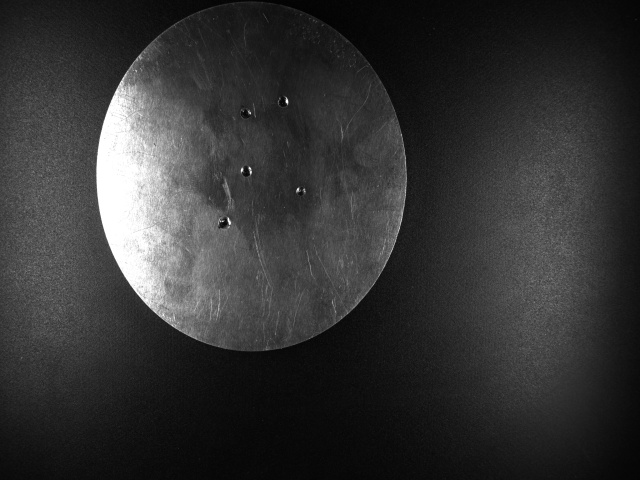zhen_kong: (212, 214, 236, 231), (240, 164, 257, 180), (276, 93, 291, 111), (236, 107, 256, 120), (292, 184, 311, 196)
